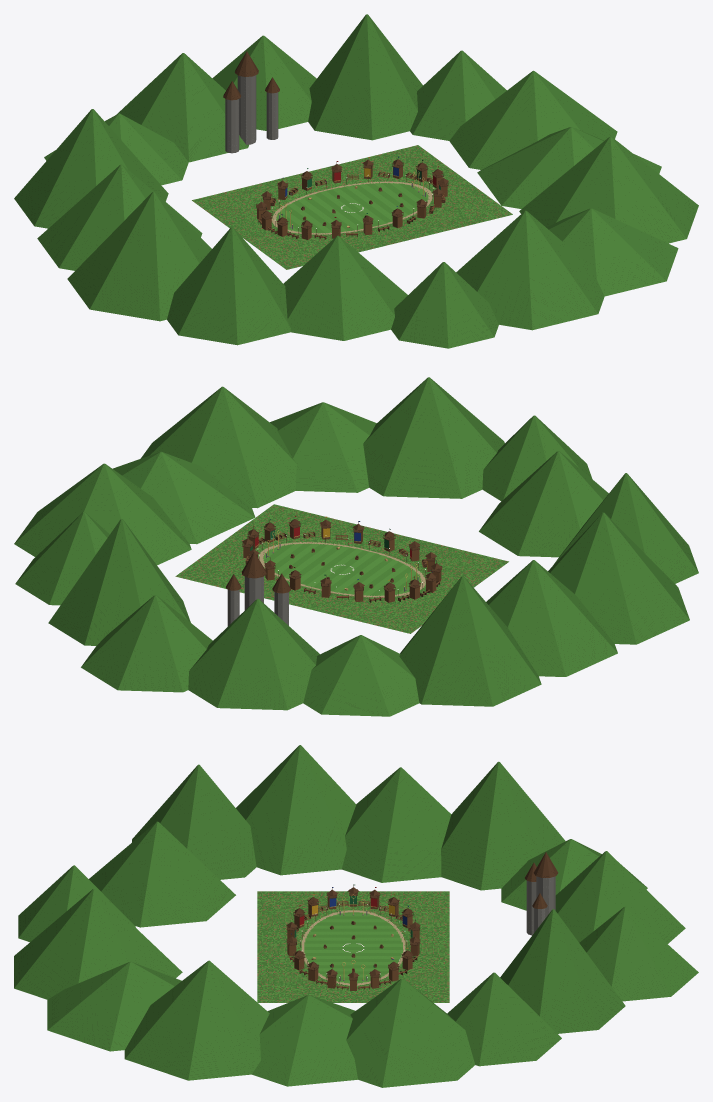
The model's file is pitch.glb.
The picture shows the model from 3 angles, top to bottom: view 1: azimuth 30°, elevation 25°; view 2: azimuth 150°, elevation 25°; view 3: azimuth 270°, elevation 25°; orthographic projection. The views are drawn at different scales.
Visible parts, largest first — view 1: pitch_far, ground; view 2: pitch_far, ground; view 3: pitch_far, ground.
Part boxes in pixels (<box>): pitch_far: <box>14,14,698,348</box>; ground: <box>192,145,512,269</box>; pitch_far: <box>14,377,698,716</box>; ground: <box>175,504,508,633</box>; pitch_far: <box>14,745,698,1087</box>; ground: <box>257,891,449,1002</box>.
Bounding box in the file's own units: 561 × 88.49 × 569.
1 material, 1 textured.
